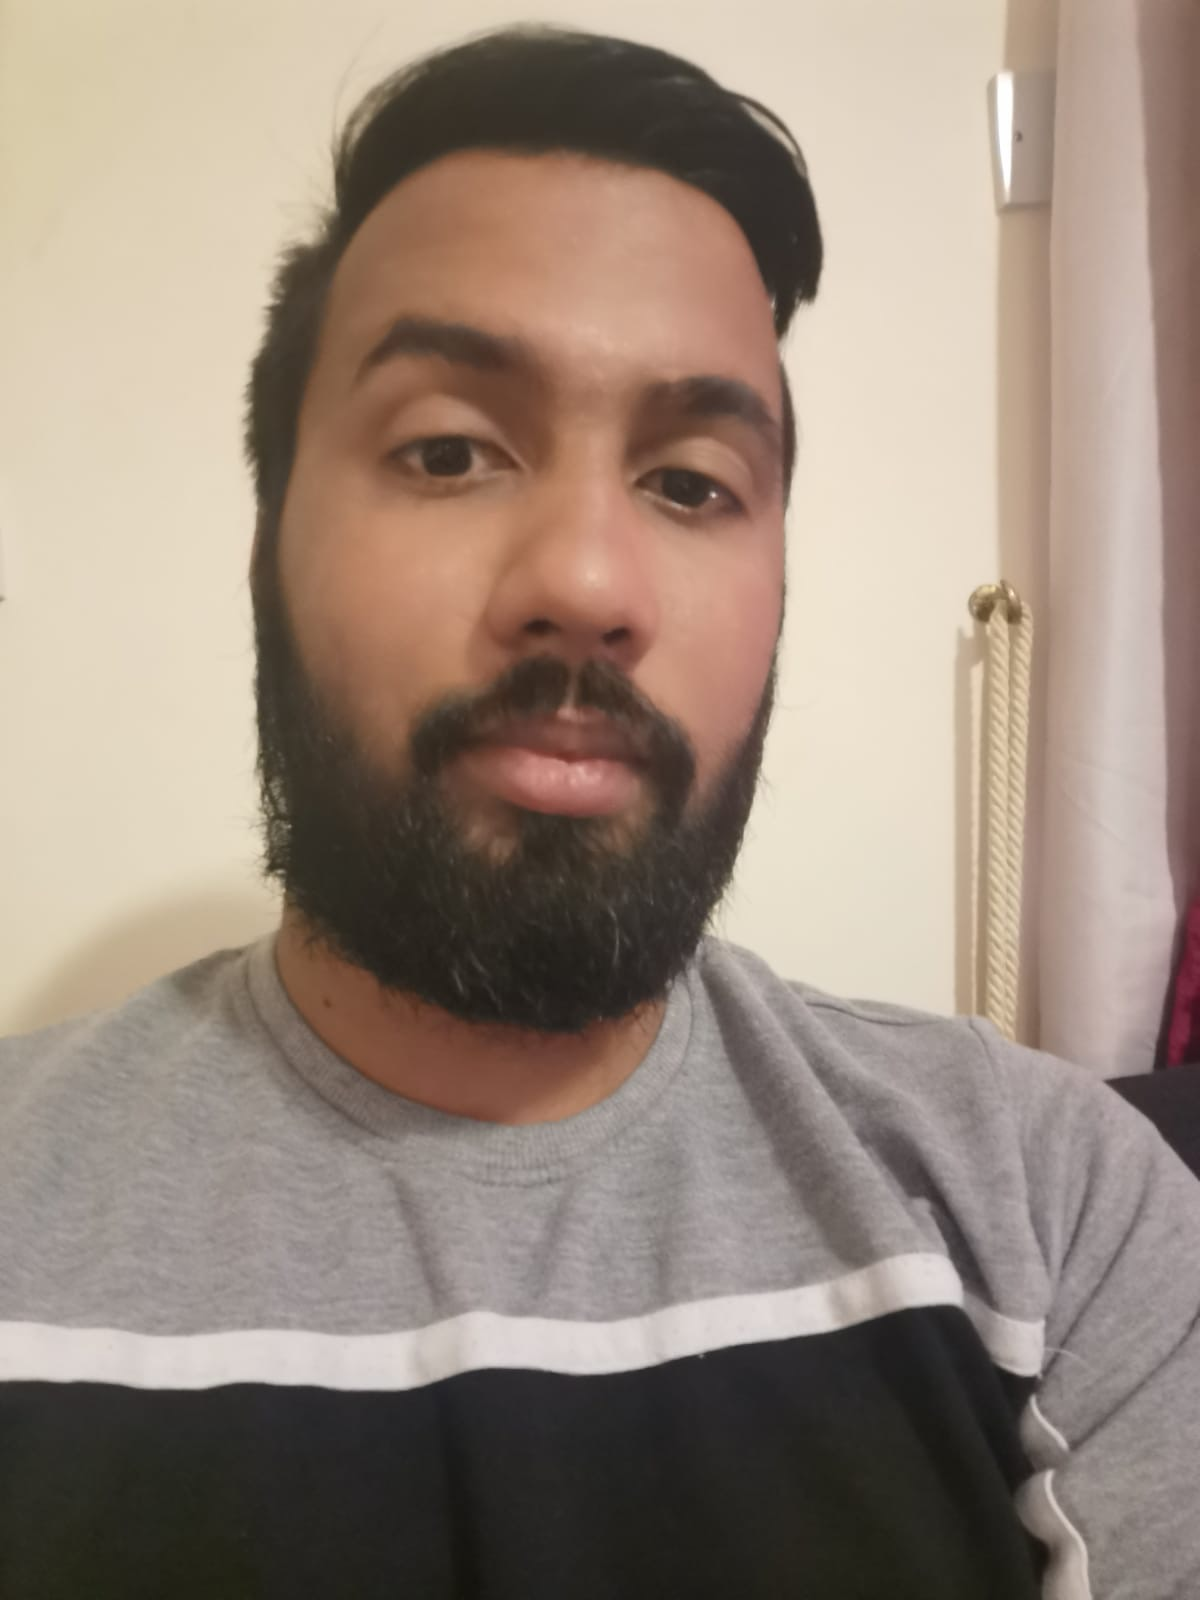Not Sleeping: (350, 379, 790, 548)
